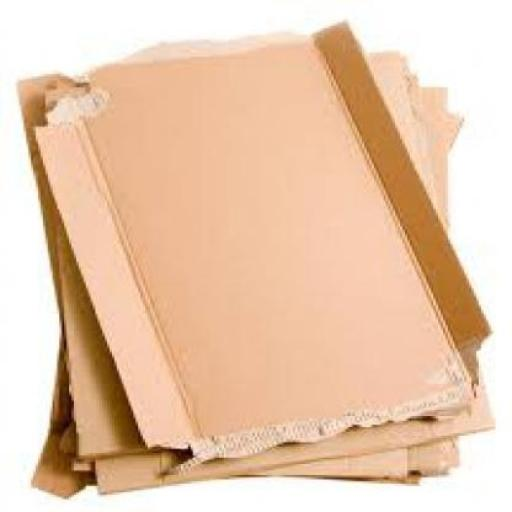cardboard: (12, 19, 490, 462), (46, 28, 481, 479), (62, 178, 460, 490), (21, 320, 98, 497), (407, 82, 448, 238), (364, 48, 415, 161)
